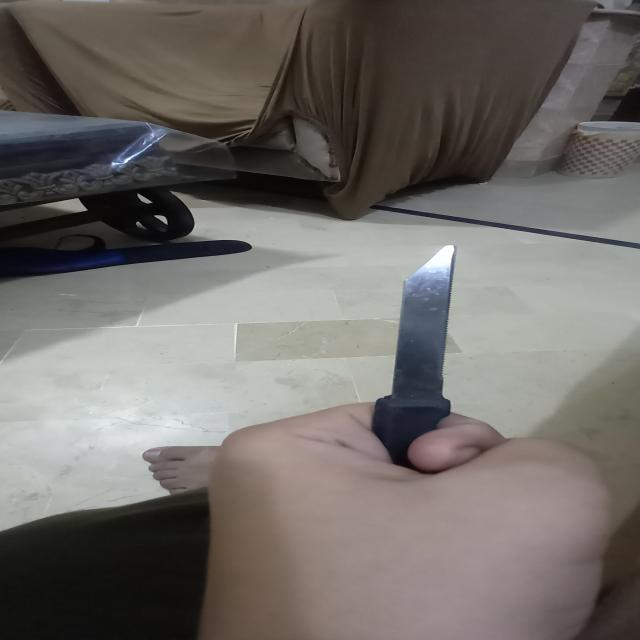Knife: (371, 235, 518, 489)
